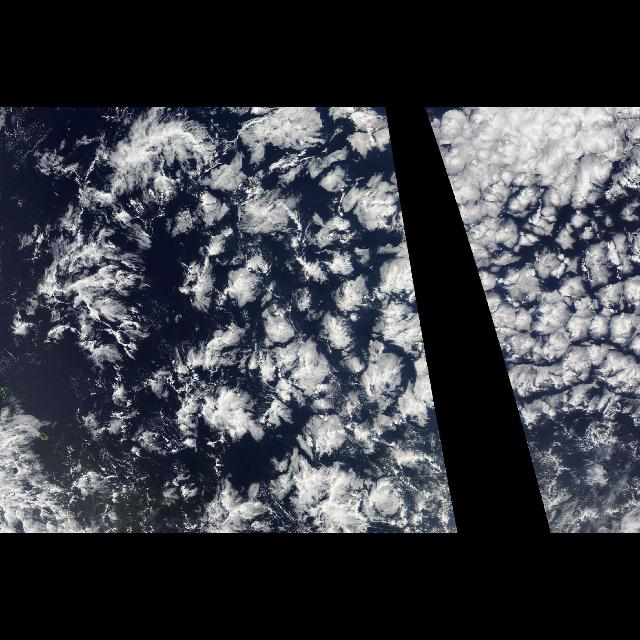Fish: (9, 195, 157, 387)
Flower: (94, 110, 456, 524), (422, 110, 640, 524)
